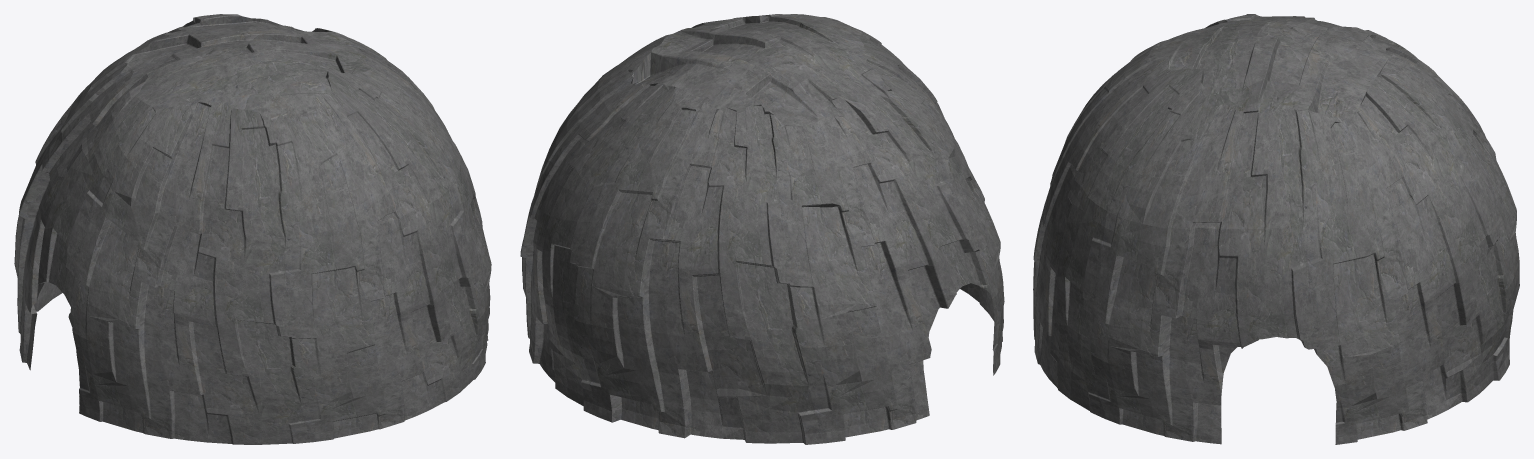
Rendered from Tunnel_Dome.fbx.
3 views of the same model, side by side, from view 1: azimuth 30°, elevation 25°; view 2: azimuth 150°, elevation 25°; view 3: azimuth 270°, elevation 25° (orthographic). The views are drawn at different scales.
Parts seen in each view (by area): view 1: SM_ENV_NATURE_Cave_Tunnel_Dome_L_01.mo; view 2: SM_ENV_NATURE_Cave_Tunnel_Dome_L_01.mo; view 3: SM_ENV_NATURE_Cave_Tunnel_Dome_L_01.mo.
Boxes of the visible parts, box(x1,y1,x2,y2) form: SM_ENV_NATURE_Cave_Tunnel_Dome_L_01.mo: box(14, 14, 491, 444); SM_ENV_NATURE_Cave_Tunnel_Dome_L_01.mo: box(520, 14, 1004, 444); SM_ENV_NATURE_Cave_Tunnel_Dome_L_01.mo: box(1033, 14, 1519, 444).
Bounding box in the file's own units: 2571 × 1812 × 2594.
Materials: 1 (1 with a texture image).
